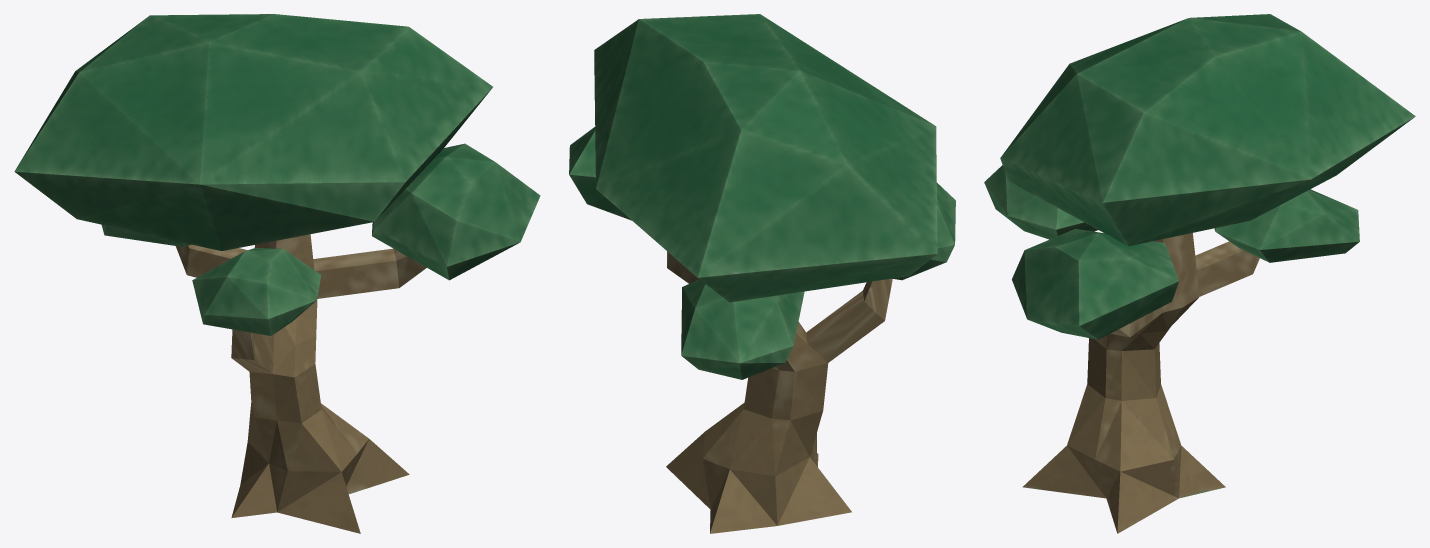
The model's file is GJ_Decor_Exterior_Tree_02.fbx.
3 views of the same model, side by side, from view 1: azimuth 30°, elevation 25°; view 2: azimuth 150°, elevation 25°; view 3: azimuth 270°, elevation 25° (orthographic). The views are drawn at different scales.
Parts seen in each view (by area): view 1: GJ_Decor_Exterior_Tree_02; view 2: GJ_Decor_Exterior_Tree_02; view 3: GJ_Decor_Exterior_Tree_02.
Boxes of the visible parts, x1,y1,x2,y2 form: GJ_Decor_Exterior_Tree_02: [14, 14, 540, 533]; GJ_Decor_Exterior_Tree_02: [569, 14, 955, 533]; GJ_Decor_Exterior_Tree_02: [984, 14, 1415, 533].
Size of the model in its own units: 15.74 by 15.27 by 13.66.
1 material, 1 textured.
